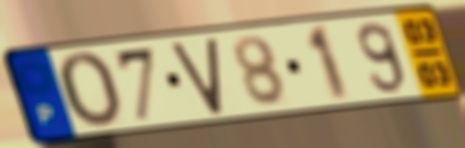1: (306, 22, 356, 105)
7: (111, 47, 162, 124)
8: (230, 34, 289, 108)
9: (356, 20, 407, 95)
O: (54, 49, 126, 131)
V: (168, 35, 225, 118)
